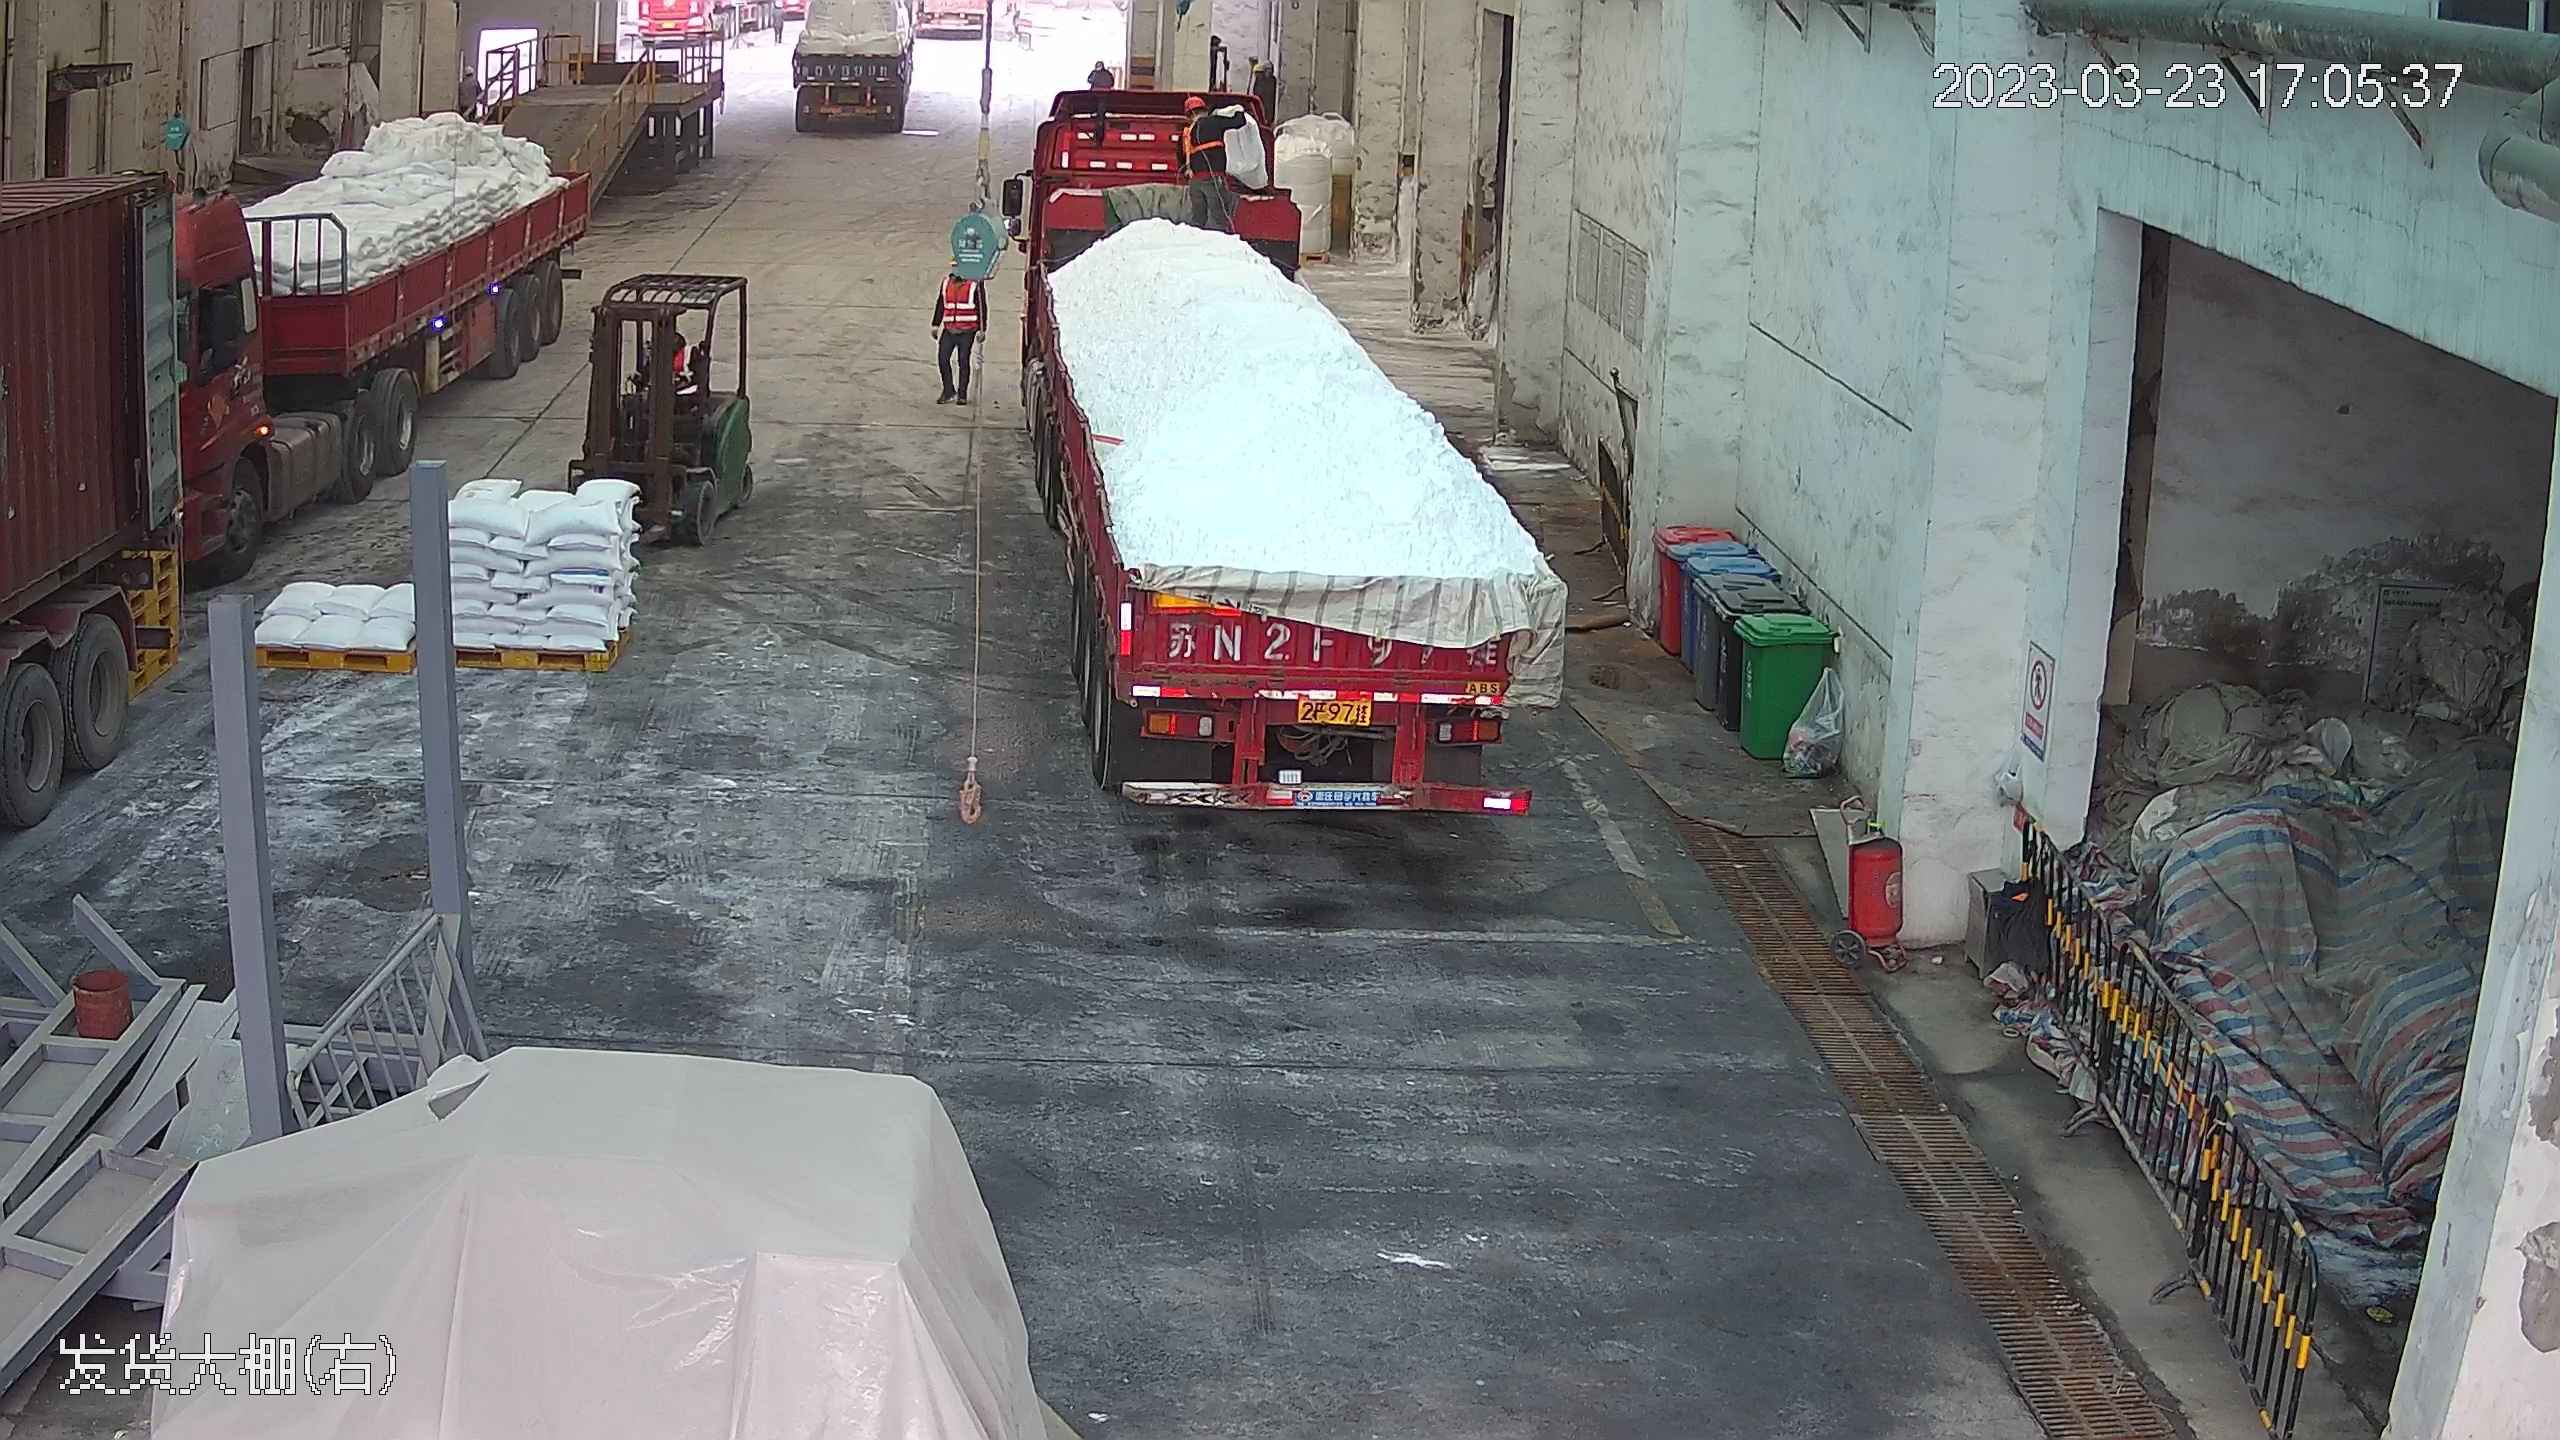belt: (1177, 119, 1229, 157)
head: (1179, 98, 1216, 140)
helmet: (1182, 96, 1205, 111)
people: (932, 263, 984, 405), (1239, 54, 1280, 158)
truck: (1012, 63, 1561, 819), (1, 110, 252, 963), (199, 1, 587, 464), (774, 3, 923, 140)
